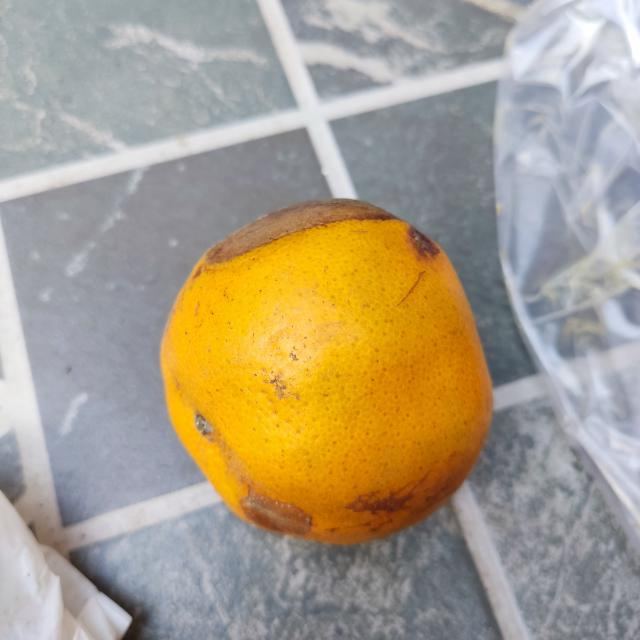orange: (155, 192, 498, 556)
